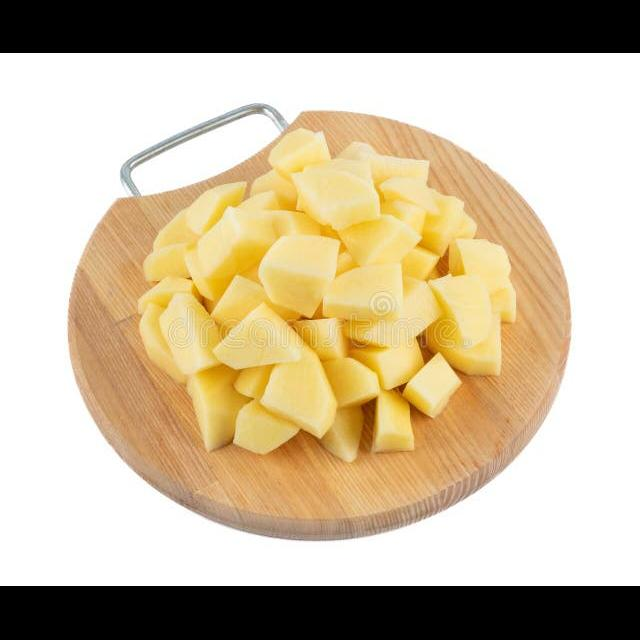potato: (152, 155, 502, 427)
